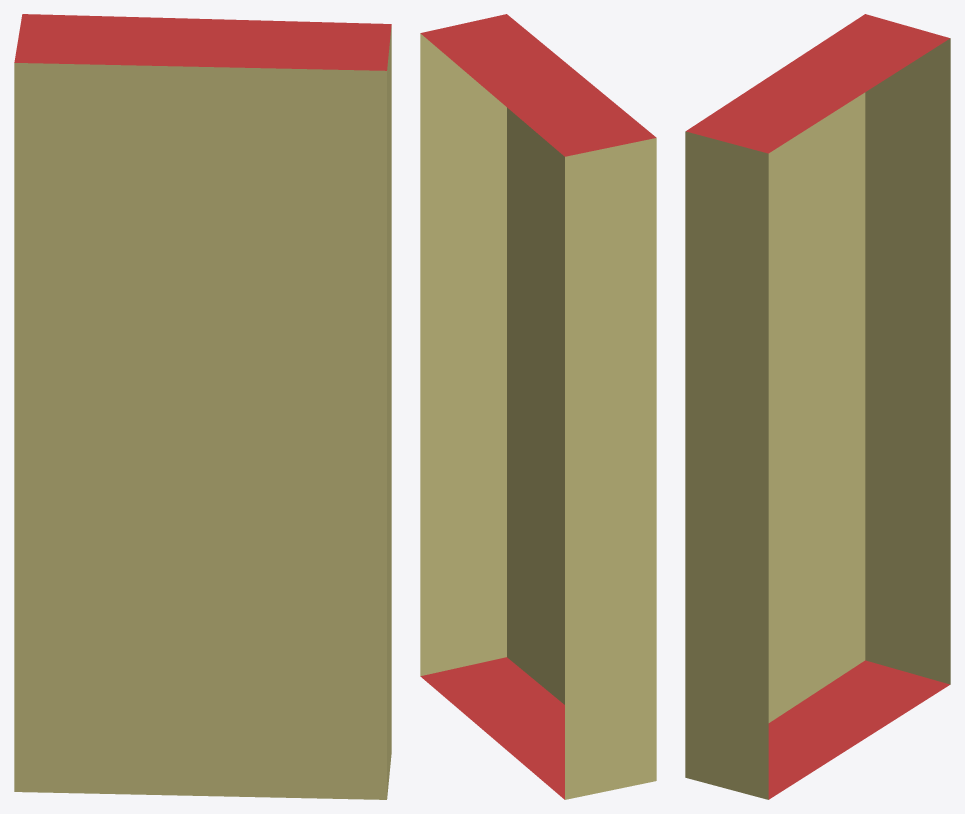
3 views of the same model, side by side, from view 1: azimuth 30°, elevation 25°; view 2: azimuth 150°, elevation 25°; view 3: azimuth 270°, elevation 25° (orthographic). The views are drawn at different scales.
Visible parts, largest first — view 1: group_4, group_3; view 2: group_4, group_3, group_5; view 3: group_4, group_3, group_5.
Part boxes in pixels (x1,y1,x2,y2): group_4: (14, 26, 391, 799); group_3: (14, 14, 391, 70); group_4: (420, 33, 656, 799); group_3: (420, 14, 656, 156); group_5: (420, 657, 564, 799); group_4: (685, 38, 950, 799); group_3: (686, 14, 949, 153); group_5: (768, 660, 949, 799).
Bounding box in the file's own units: 7.73 × 6.2 × 16.68.
